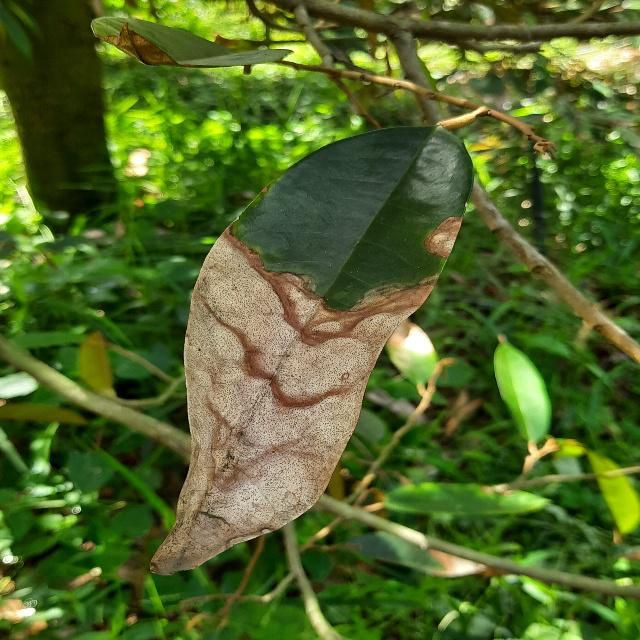Leaf Blight: (138, 117, 479, 579)
